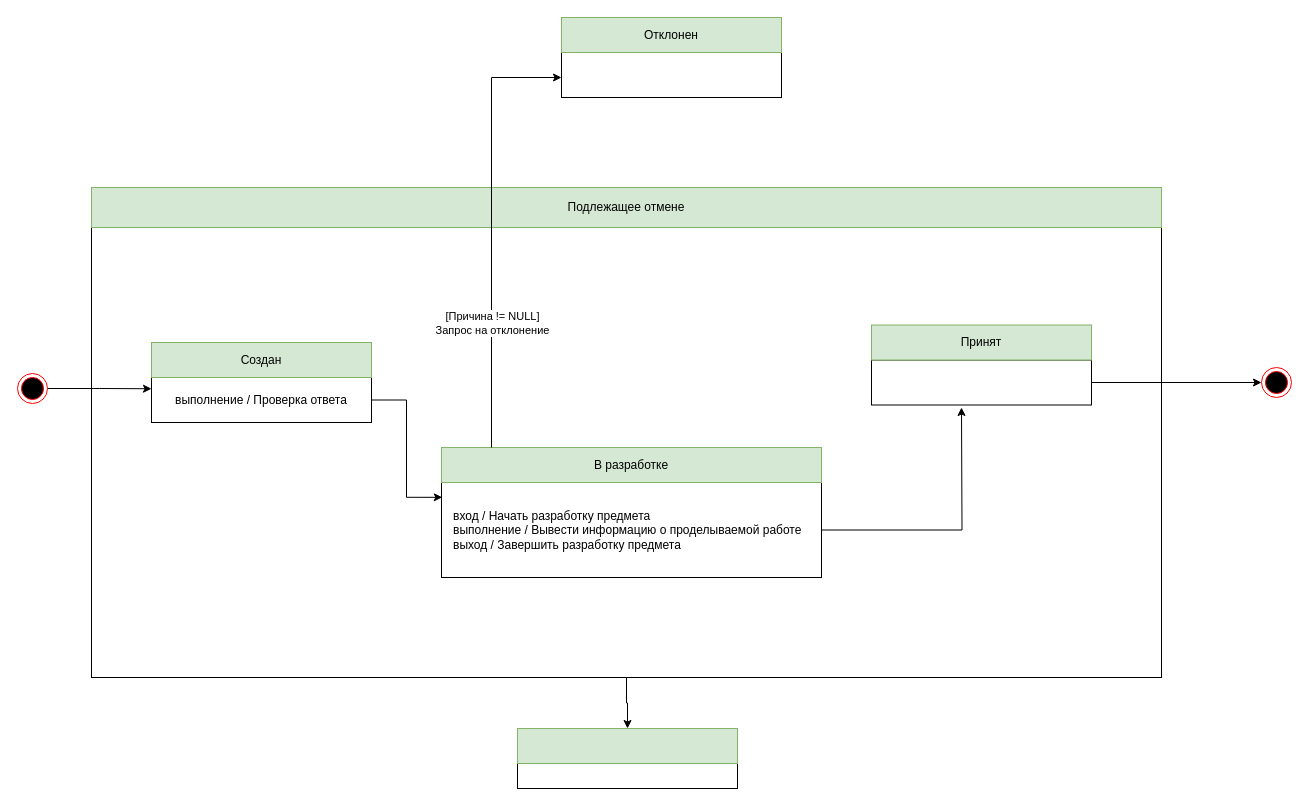
Some shapes in this 1309 by 806 pixel diagram are drawn without their labels. Each missing label, with the centre of its shape:
выход / Сохранить дату принятия: the point at 981,382
выход / Сохранять дату отклонения: the point at 671,75
Отменен: the point at 627,746
